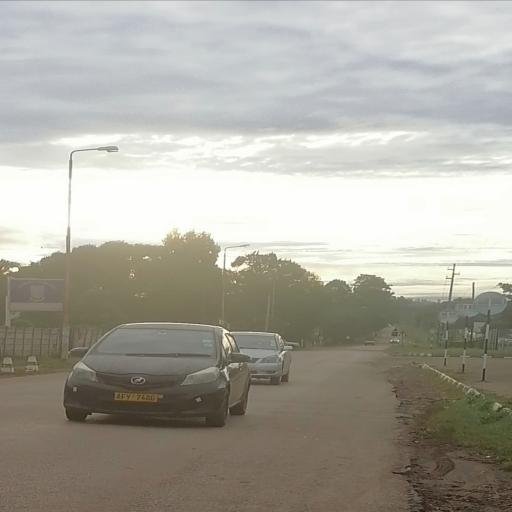number-plates: (102, 386, 171, 405)
